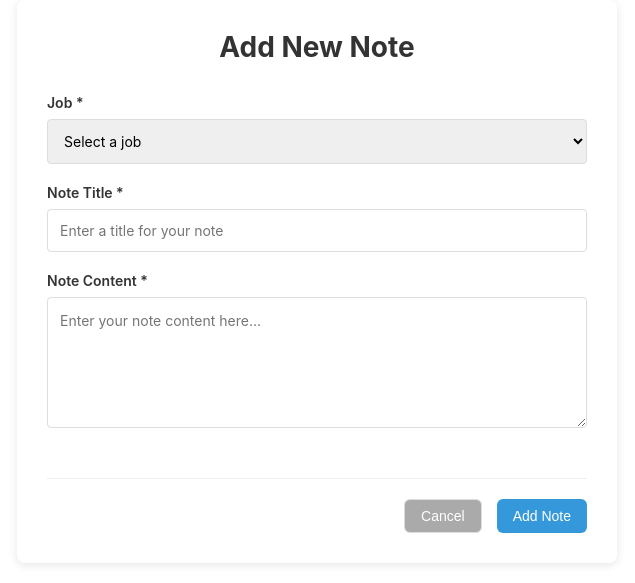
it: NotesForm Component › Form Submission - Add Mode › disables buttons during submission
Step 1. Select "TechCorp" in the dropdown labelled "Job *" → point(317, 142), box x1=47 y1=119 x2=587 y2=164
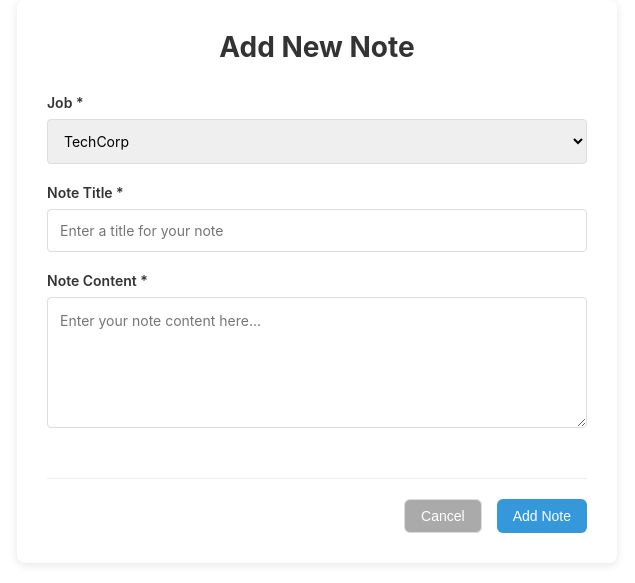
Step 2. Type "Test" into the field labelled "Note Title *" → point(317, 230), box x1=47 y1=209 x2=587 y2=252
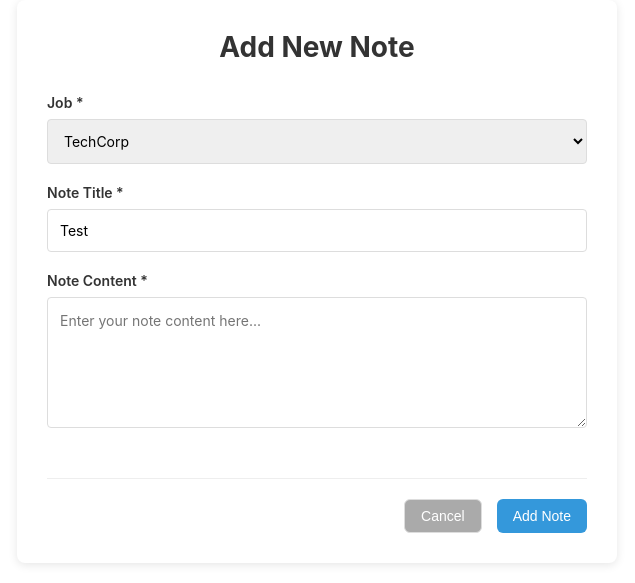
Step 3. Type "Content" into the text box labelled "Note Content *" → point(317, 362), box x1=47 y1=297 x2=587 y2=428
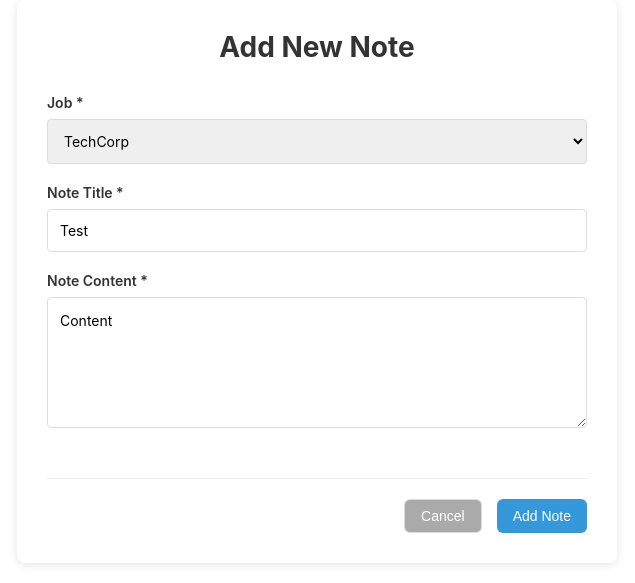
Step 4. Click the button "Add Note" → point(542, 516), box x1=497 y1=499 x2=587 y2=533
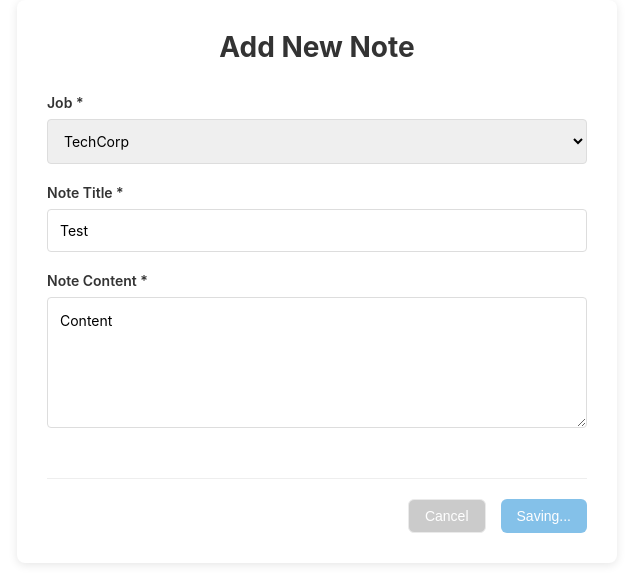
Now the button "Saving..." is disabled, box x1=500 y1=499 x2=587 y2=533
Now the button "Cancel" is disabled, box x1=408 y1=499 x2=486 y2=533
